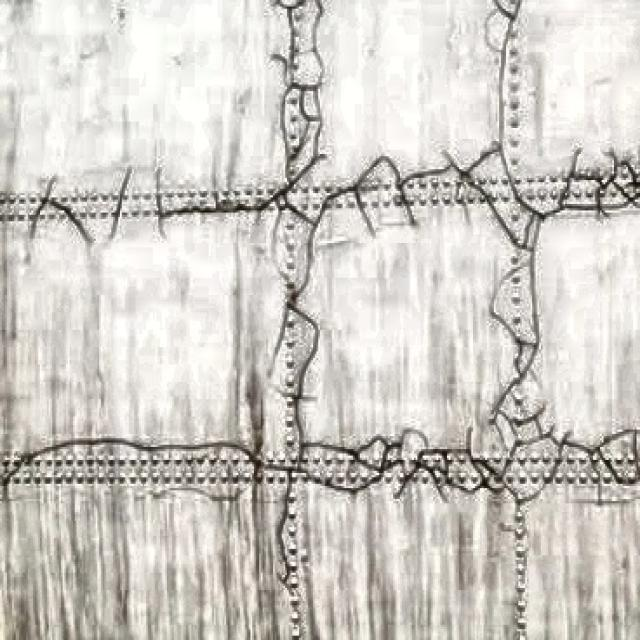crack: (16, 138, 640, 255), (8, 427, 640, 507), (269, 3, 330, 593), (483, 3, 548, 522)
